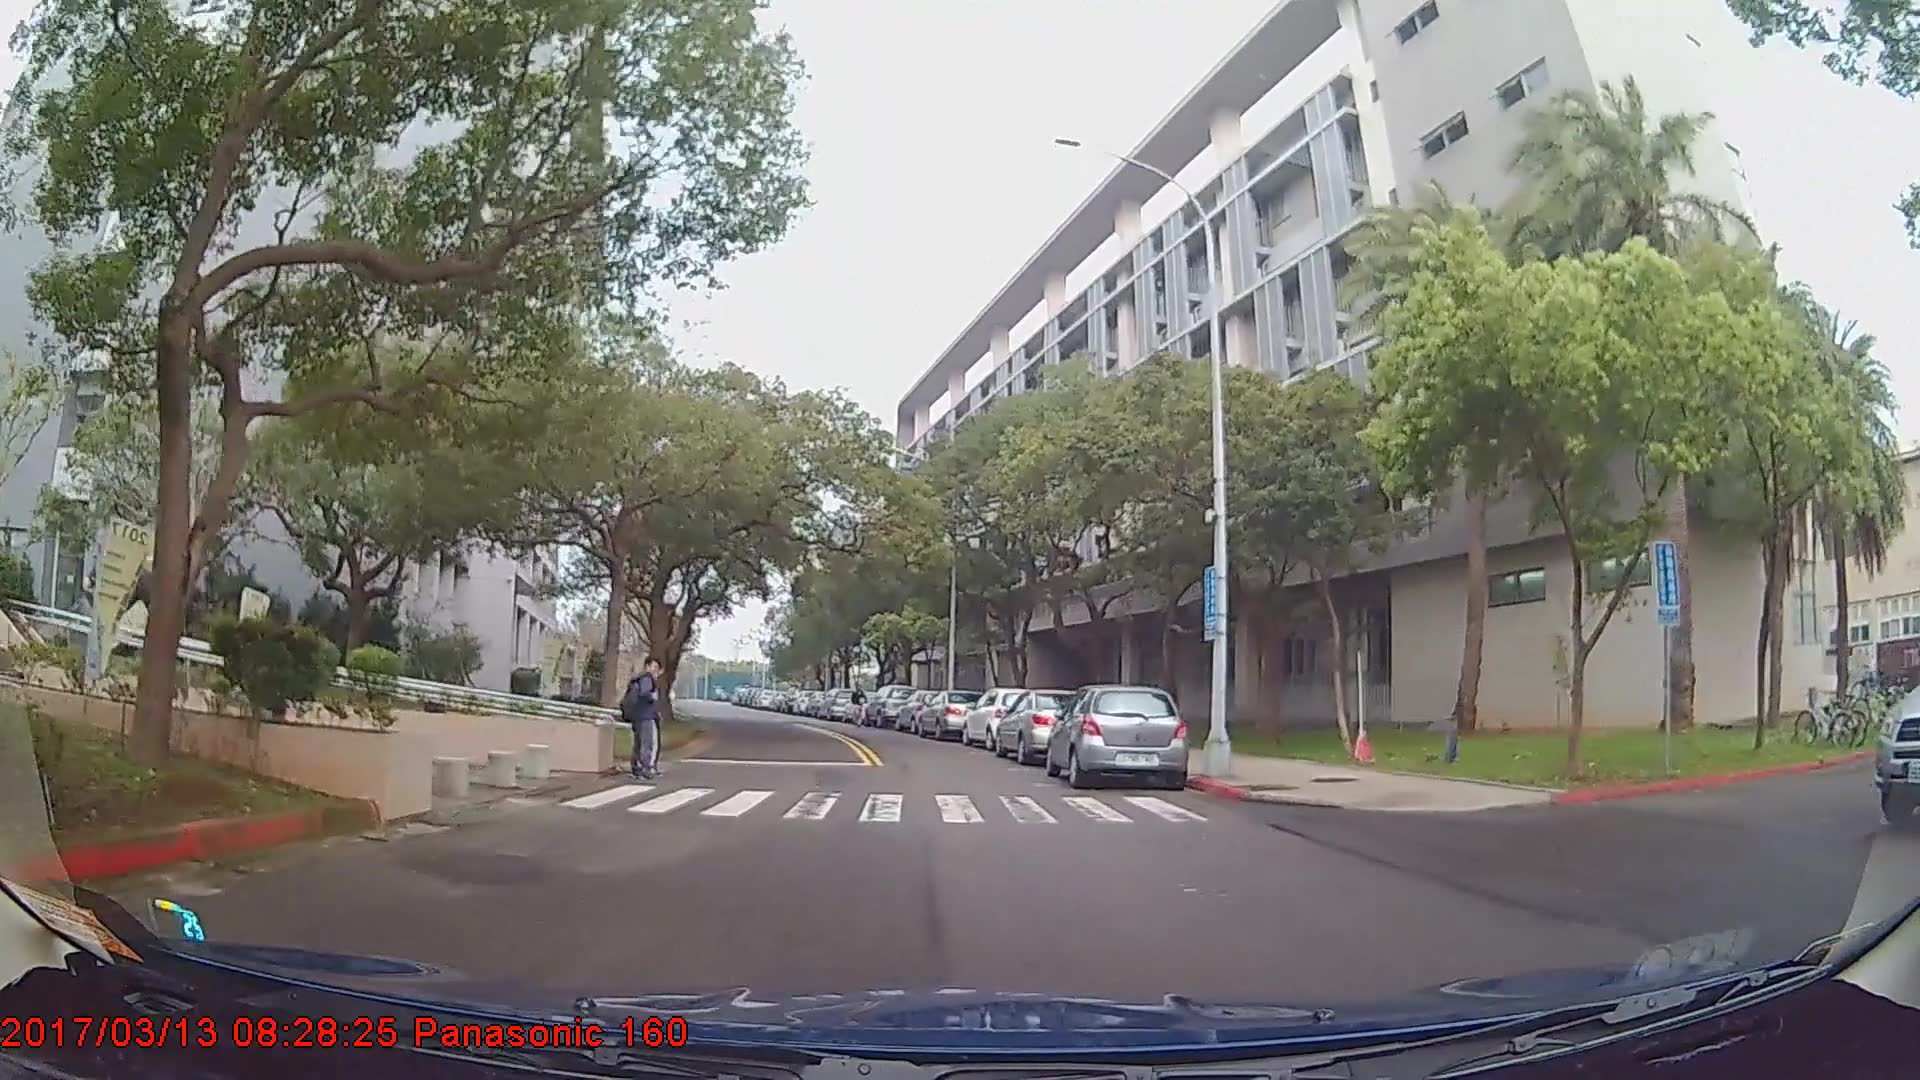pedestrian: (625, 656, 671, 785), (851, 685, 871, 729)
vehicle: (1045, 681, 1186, 788), (992, 688, 1091, 764), (961, 685, 1049, 751), (916, 687, 987, 740), (864, 681, 919, 727)
